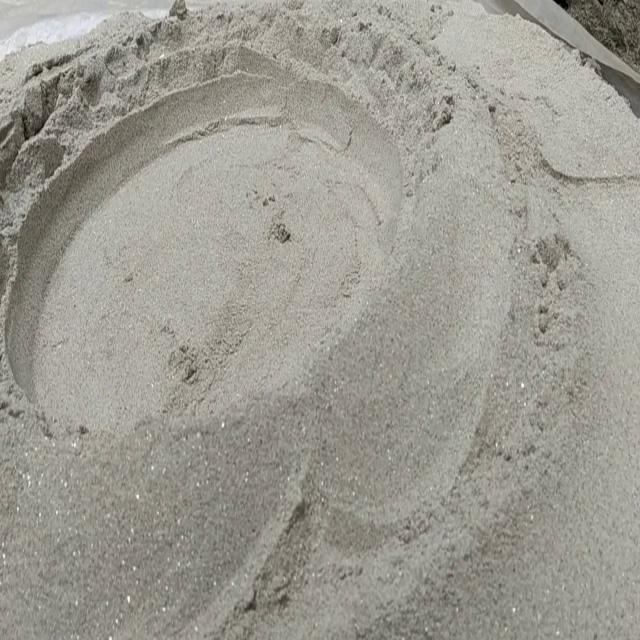C40: (4, 58, 409, 425)
